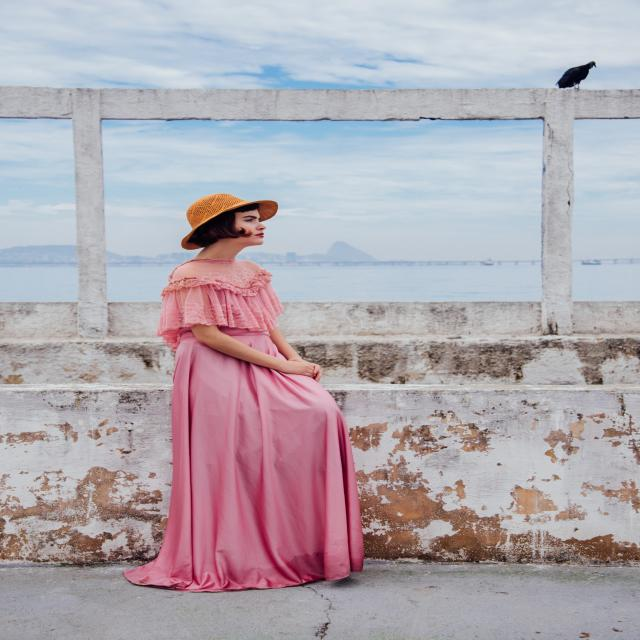adult: (161, 194, 356, 594)
